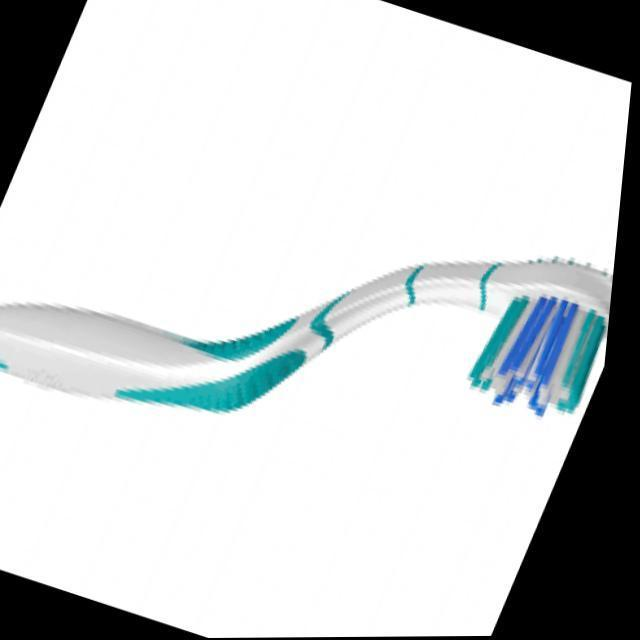toothbrush: (0, 0, 368, 58)
